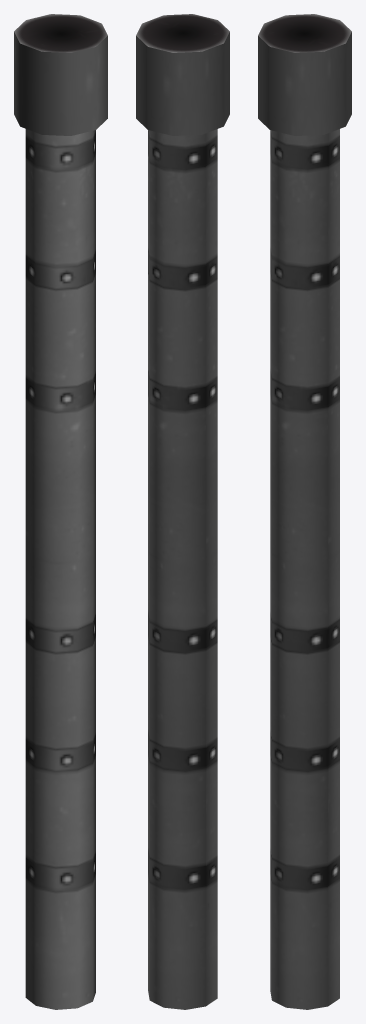
The model's file is Pipe_Vert_04.FBX.
The picture shows the model from 3 angles, left to right: view 1: azimuth 30°, elevation 25°; view 2: azimuth 150°, elevation 25°; view 3: azimuth 330°, elevation 25°; orthographic projection.
Visible parts, largest first — view 1: Pipe_Vert_04; view 2: Pipe_Vert_04; view 3: Pipe_Vert_04.
Boxes of the visible parts, x1,y1,x2,y2 form: Pipe_Vert_04: (14,14,107,1009); Pipe_Vert_04: (136,14,229,1009); Pipe_Vert_04: (258,14,351,1009).
Size of the model in its own units: 12.5 by 140 by 11.88.
